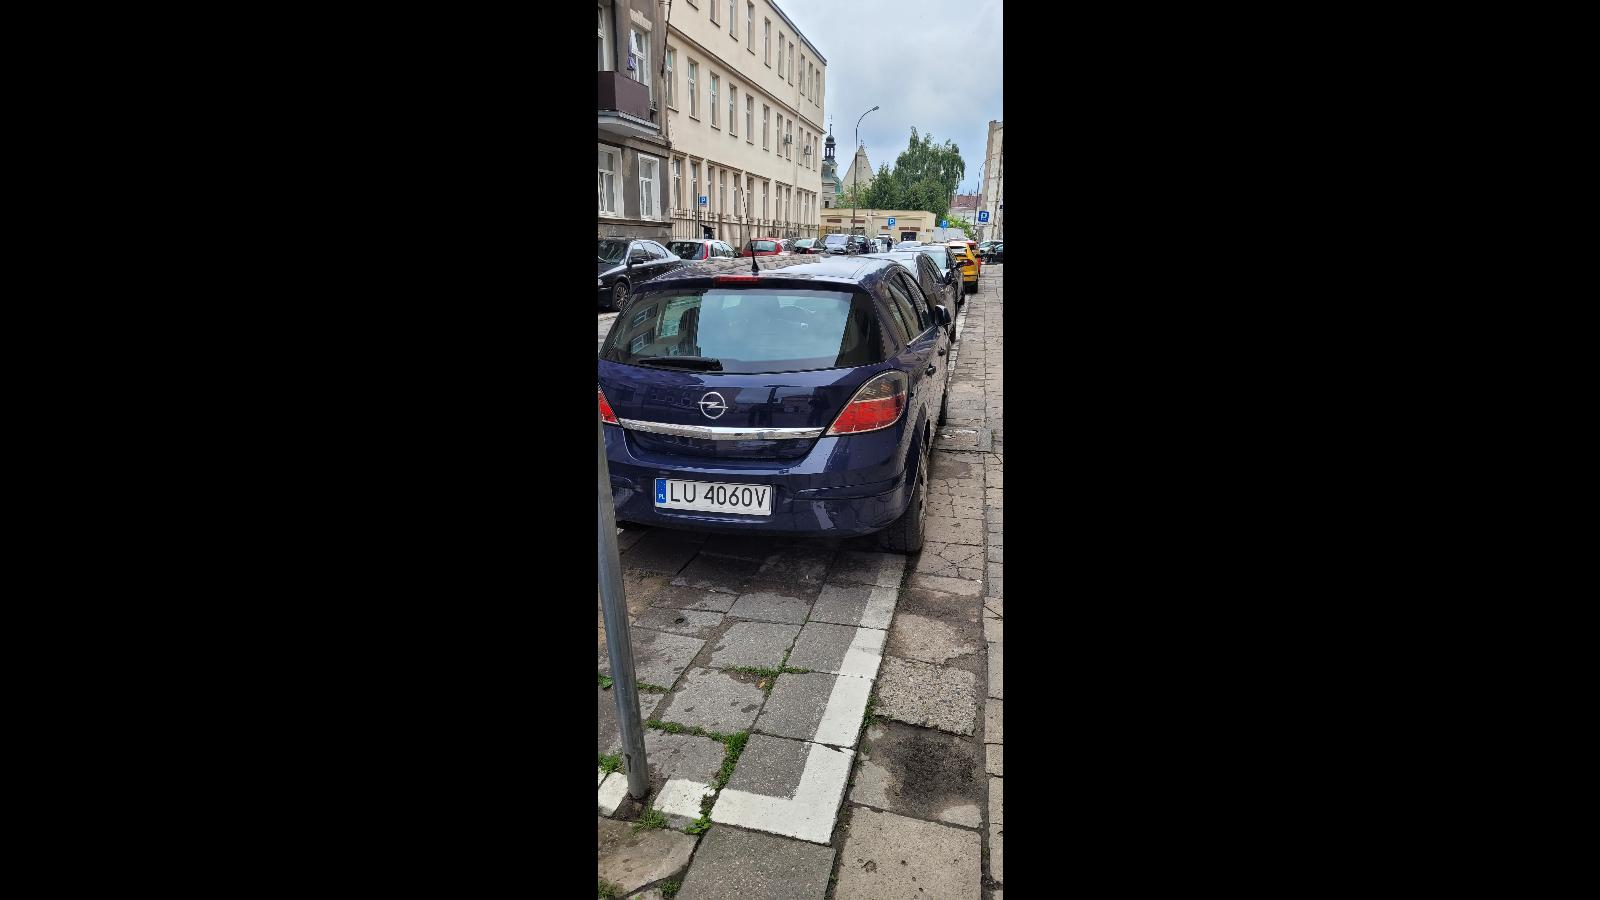plates: (653, 476, 771, 518)
